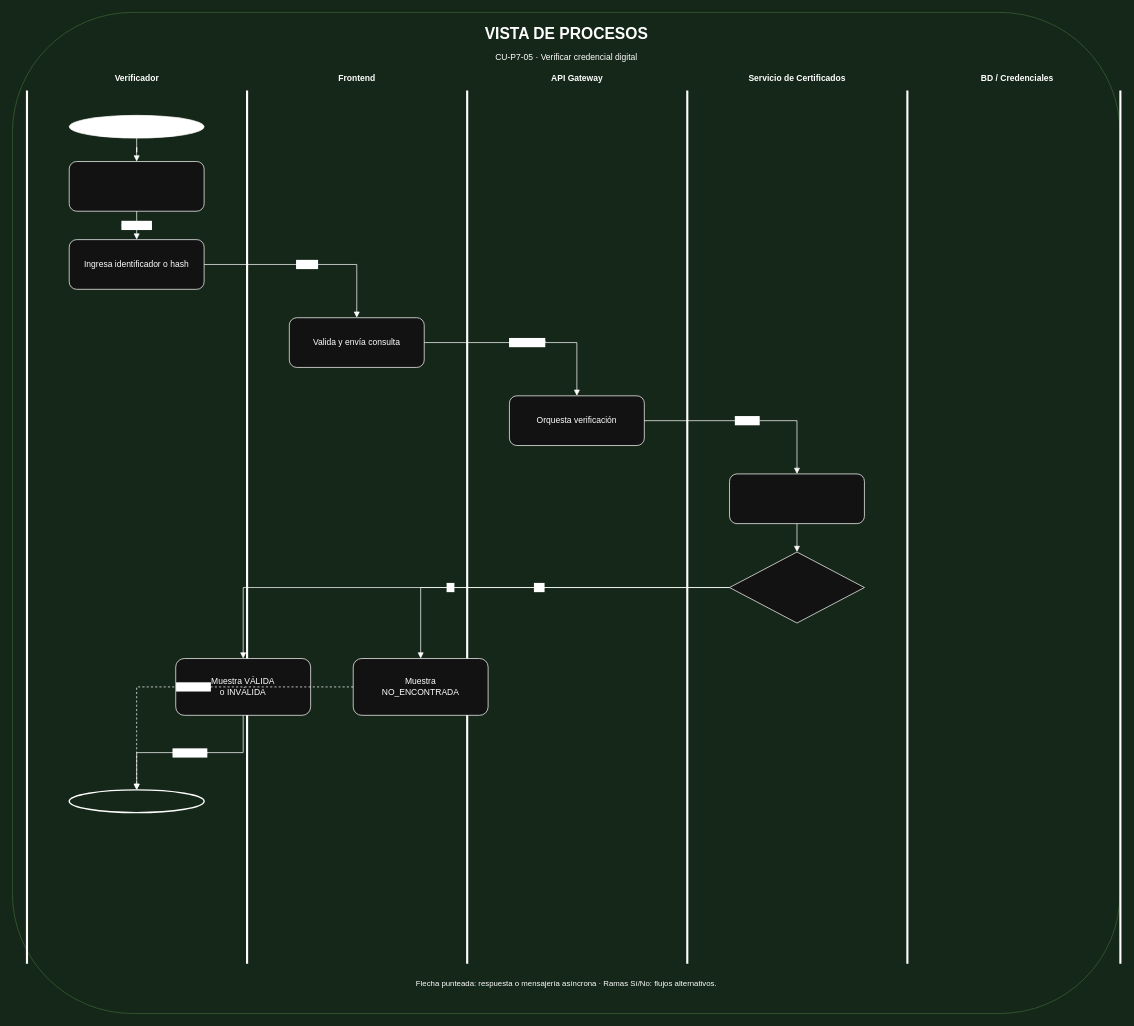
This 1134x1026 diagram has some shape labels left out. Each missing label, with the centre of its shape:
Accede al portal público: (x=136, y=186)
Busca credencial: (x=796, y=498)
¿Credencial encontrada?: (x=796, y=587)
